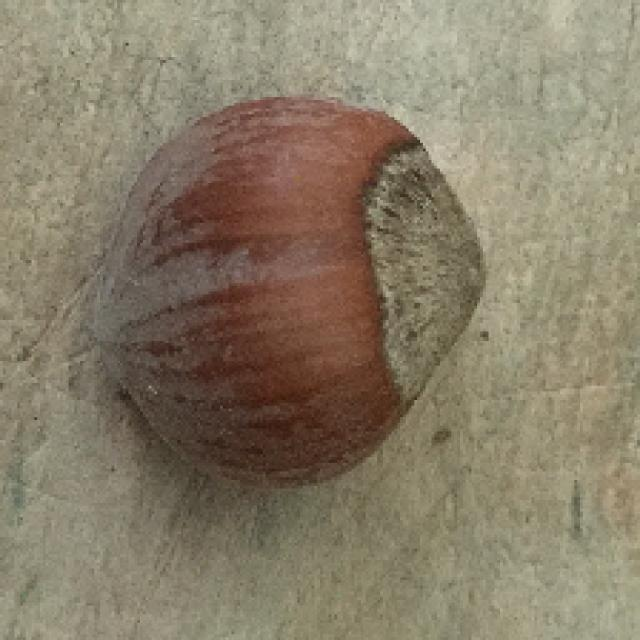qualityHazelnut: (92, 97, 490, 492)
